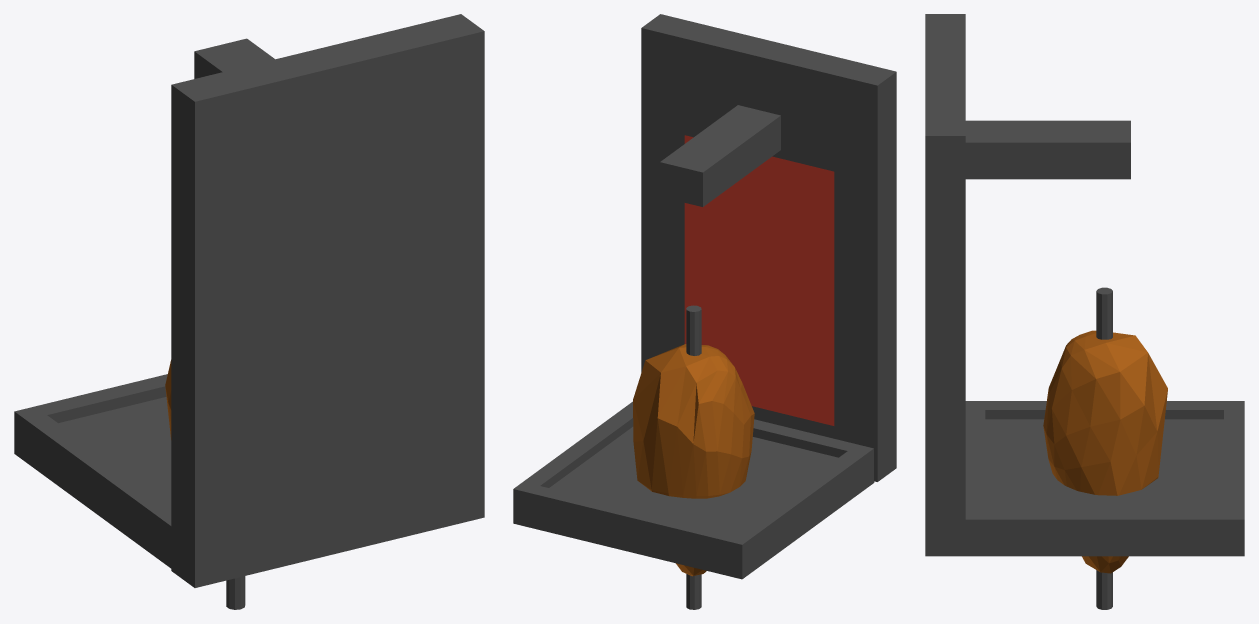
File: Doner.dae
3 views of the same model, side by side, from view 1: azimuth 30°, elevation 25°; view 2: azimuth 150°, elevation 25°; view 3: azimuth 270°, elevation 25° (orthographic). The views are drawn at different scales.
Parts seen in each view (by area): view 1: Donerlik, Cubuk; view 2: Donerlik, Doner, Cubuk; view 3: Donerlik, Doner, Cubuk.
Boxes of the visible parts, x1,y1,x2,y2 form: Donerlik: [14, 14, 484, 587]; Cubuk: [226, 576, 245, 609]; Donerlik: [513, 14, 896, 579]; Doner: [633, 344, 754, 576]; Cubuk: [686, 305, 701, 609]; Donerlik: [925, 14, 1244, 556]; Doner: [1043, 330, 1167, 573]; Cubuk: [1096, 287, 1112, 609].
Bounding box in the file's own units: 14.28 × 15.79 × 28.99.
